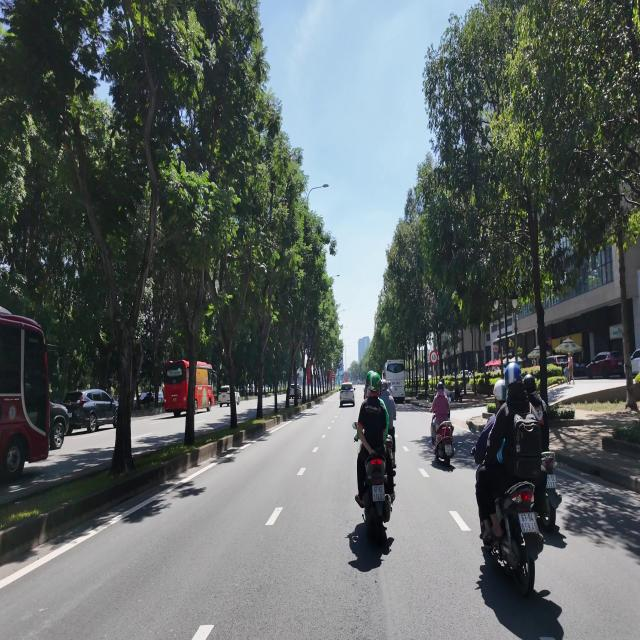car: (64, 390, 117, 433), (50, 402, 68, 449), (340, 383, 355, 407), (219, 386, 230, 406)
motorcycle: (485, 482, 543, 596), (363, 453, 393, 544), (539, 452, 561, 530), (433, 421, 454, 464)
